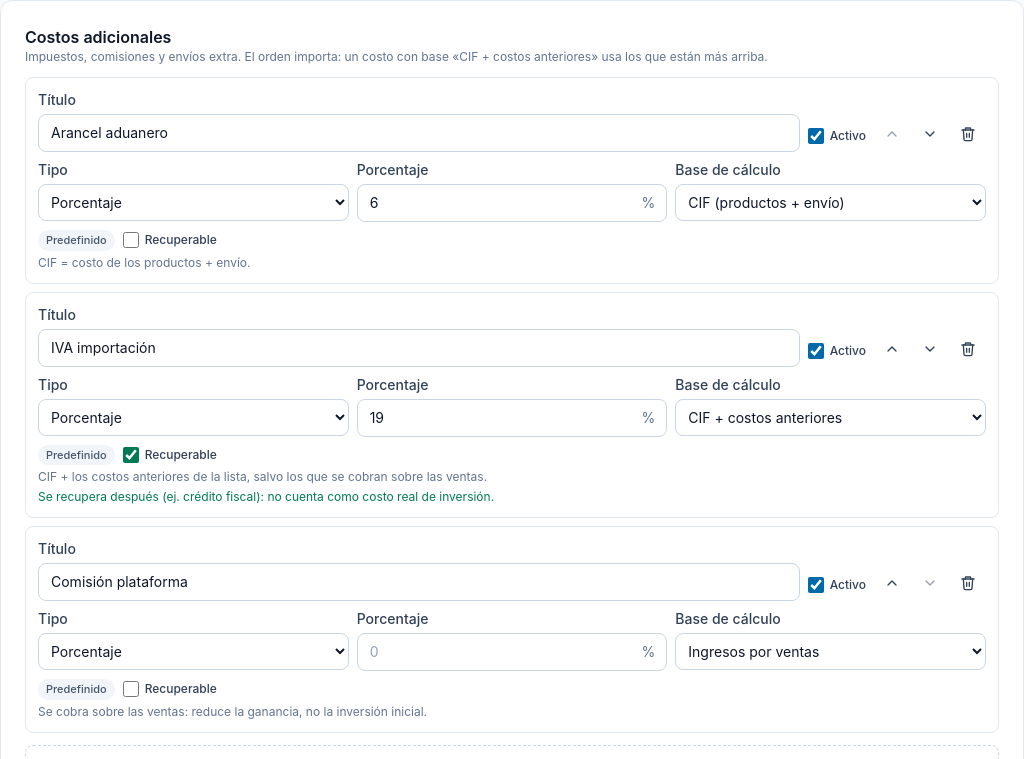
Test: CostList › restablece el valor de un preset editado
Replace the text in the 2nd field labelled "Porcentaje" with "21" at x=512, y=418, box [357,398,667,436]
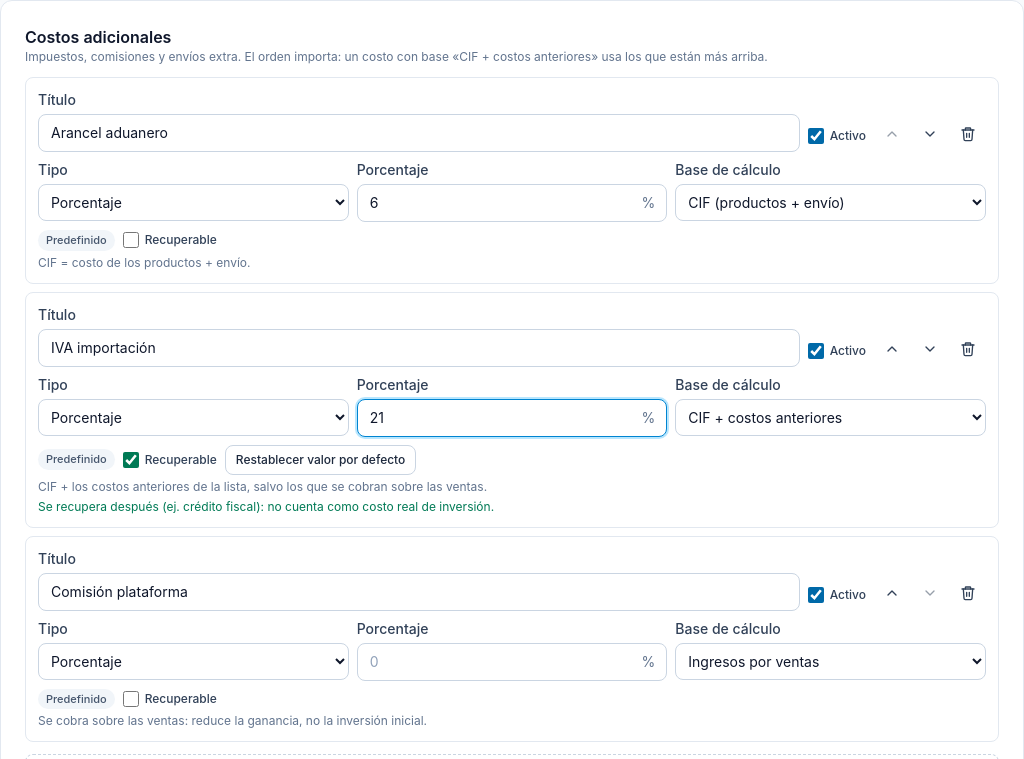
Click the button "Restablecer valor por defecto" at x=321, y=460, box [225,444,416,474]
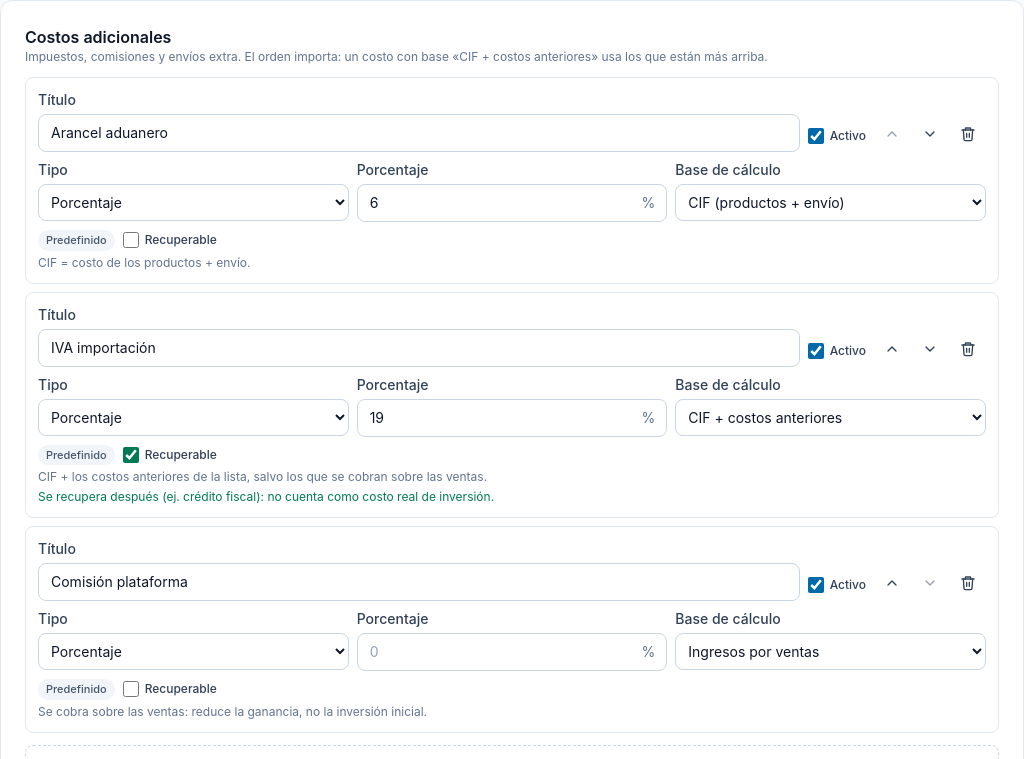
Now the button "Restablecer valor por defecto" is gone
